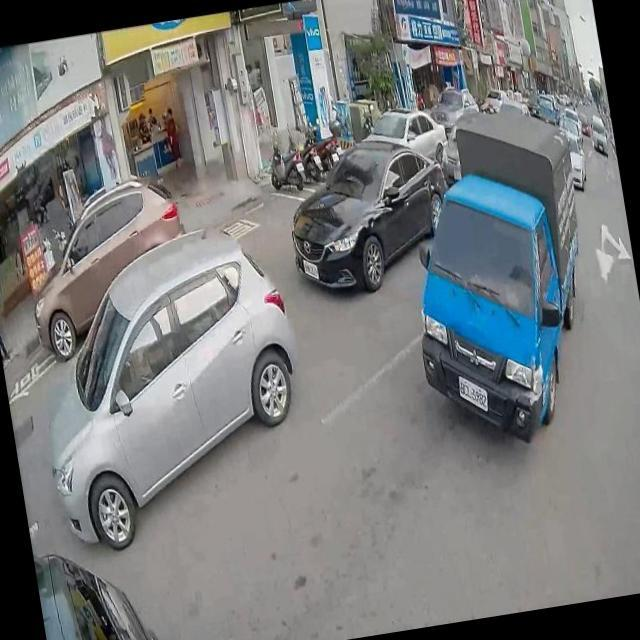person: (160, 105, 183, 167)
